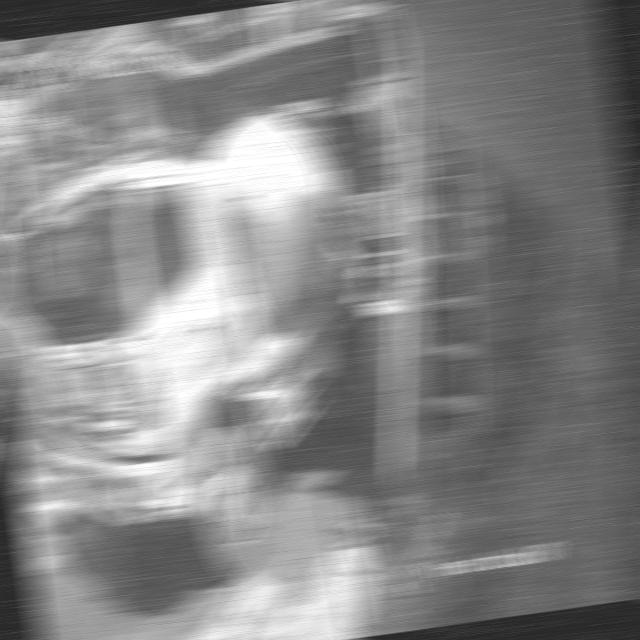cement_mixer_truck: (0, 116, 381, 574)
